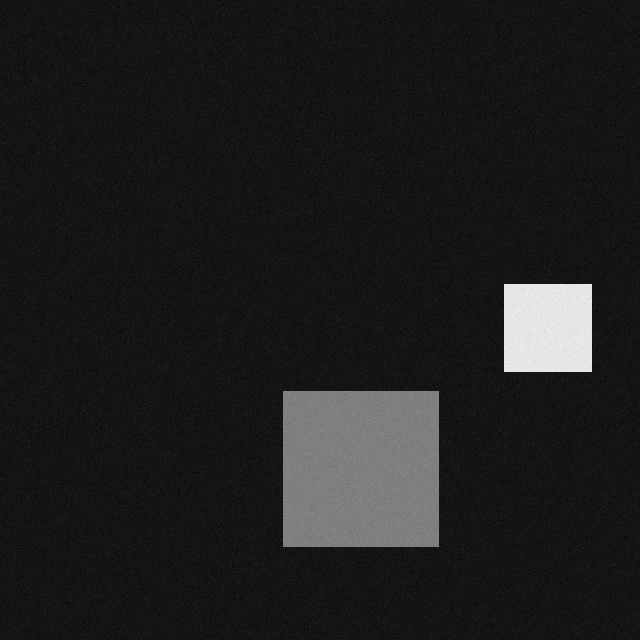square: (274, 390, 429, 545), (495, 283, 582, 370)
